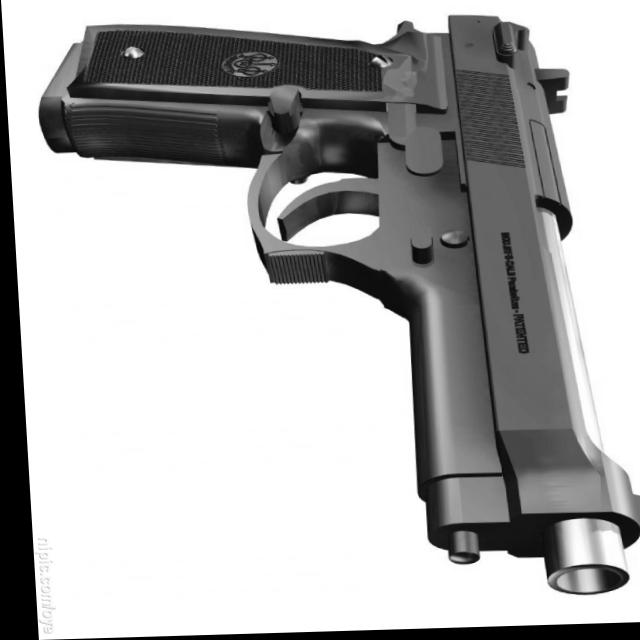handgun: (41, 7, 640, 611)
